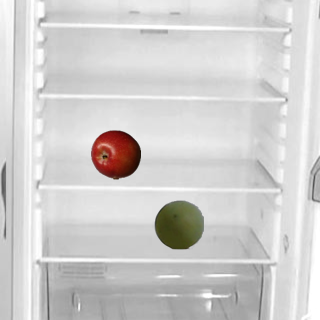Apple Braeburn: (90, 129, 140, 179)
Grape White 4: (153, 199, 203, 249)
